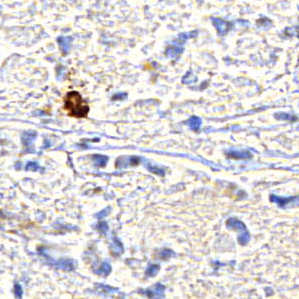Lymphocyte: (61, 90, 91, 118)
